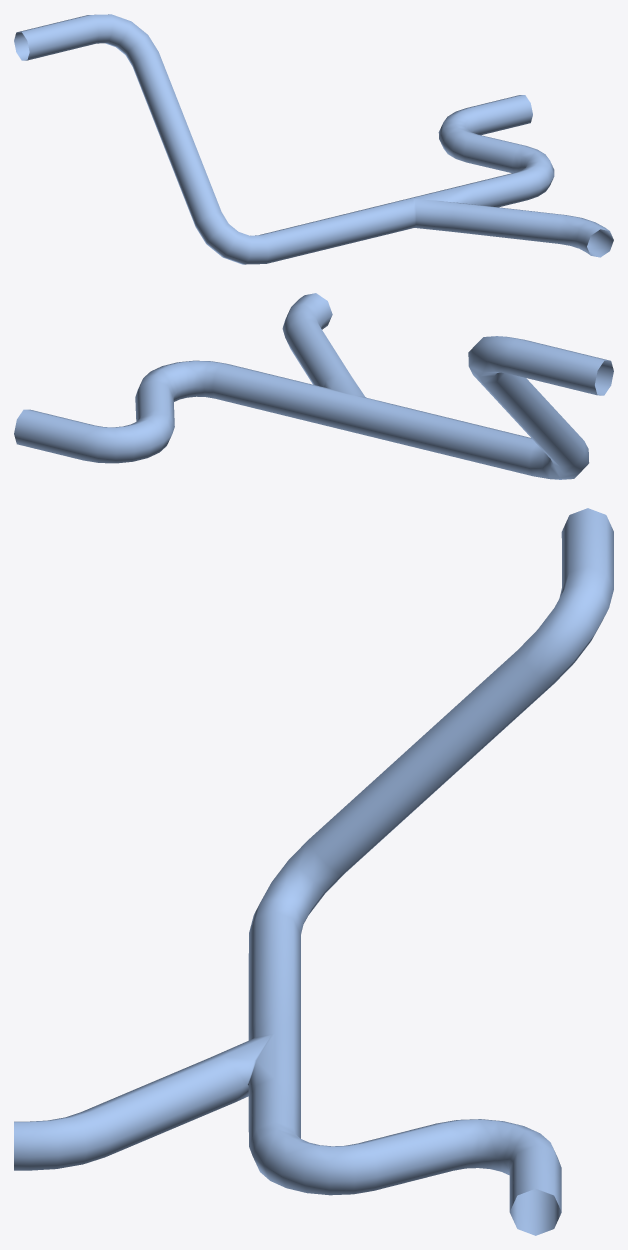
The model's file is PipeComplexSmall_B_06.fbx.
The picture shows the model from 3 angles, top to bottom: view 1: azimuth 30°, elevation 25°; view 2: azimuth 150°, elevation 25°; view 3: azimuth 270°, elevation 25°; orthographic projection. The views are drawn at different scales.
Parts seen in each view (by area): view 1: PipeComplexSmall_B_06.001; view 2: PipeComplexSmall_B_06.001; view 3: PipeComplexSmall_B_06.001.
Boxes of the visible parts, left/top/right/bottom form: PipeComplexSmall_B_06.001: left=14, top=14, right=613, bottom=264; PipeComplexSmall_B_06.001: left=14, top=293, right=613, bottom=479; PipeComplexSmall_B_06.001: left=14, top=508, right=613, bottom=1235.
Bounding box in the file's own units: 1.8 × 0.7007 × 1.15.
